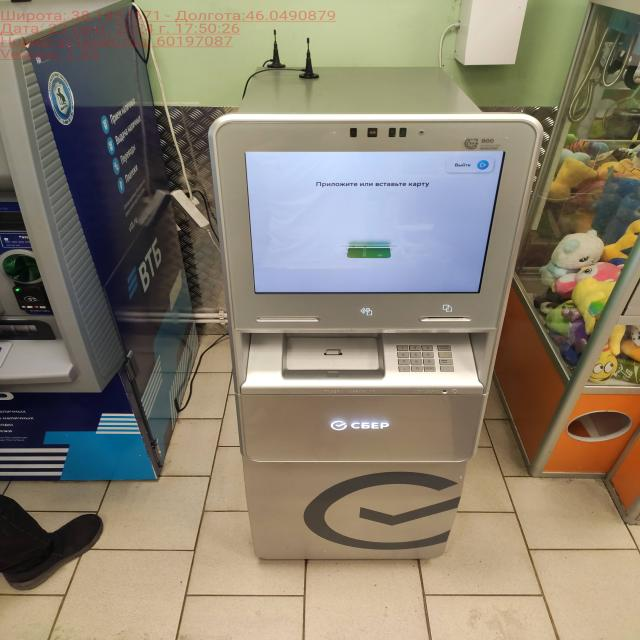bank: (209, 64, 545, 564)
